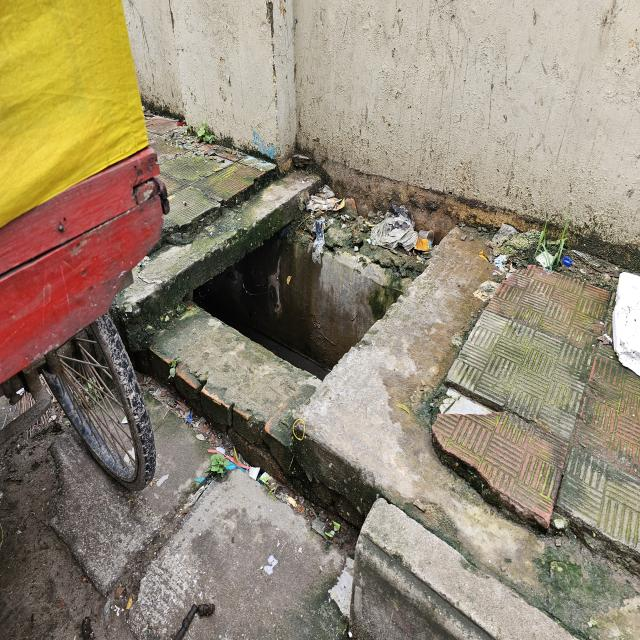drain_inlet: (189, 212, 404, 378)
